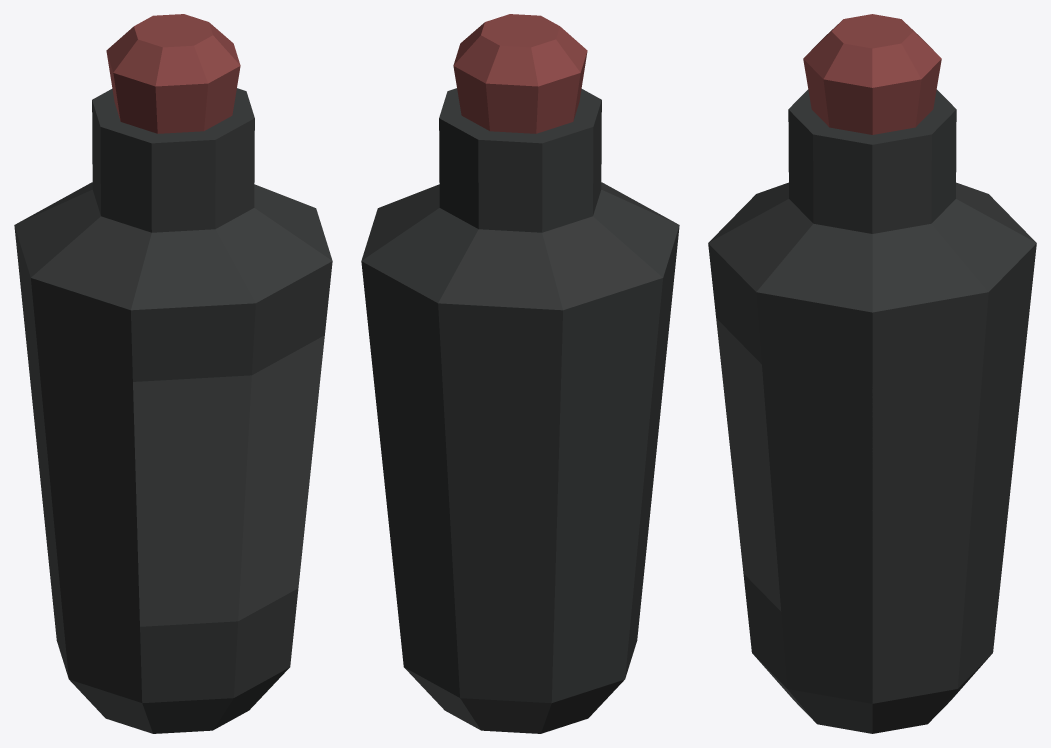
The model's file is Bottle_3_Black.fbx.
3 renders of one model, left to right at view 1: azimuth 30°, elevation 25°; view 2: azimuth 150°, elevation 25°; view 3: azimuth 270°, elevation 25°, orthographic.
Parts seen in each view (by area): view 1: Bottle_3_Black_Part_1, Bottle_3_Black_Part_2, Bottle_3_Black_Part_3; view 2: Bottle_3_Black_Part_1, Bottle_3_Black_Part_3; view 3: Bottle_3_Black_Part_1, Bottle_3_Black_Part_3, Bottle_3_Black_Part_2.
Boxes of the visible parts, box(x1,y1,x2,y2) form: Bottle_3_Black_Part_1: box(14, 88, 332, 733); Bottle_3_Black_Part_2: box(133, 335, 324, 626); Bottle_3_Black_Part_3: box(106, 14, 240, 133); Bottle_3_Black_Part_1: box(361, 88, 679, 733); Bottle_3_Black_Part_3: box(453, 14, 587, 133); Bottle_3_Black_Part_1: box(708, 89, 1036, 733); Bottle_3_Black_Part_3: box(803, 14, 941, 134); Bottle_3_Black_Part_2: box(716, 318, 781, 611).
Bounding box in the file's own units: 13.35 × 30 × 13.35.
